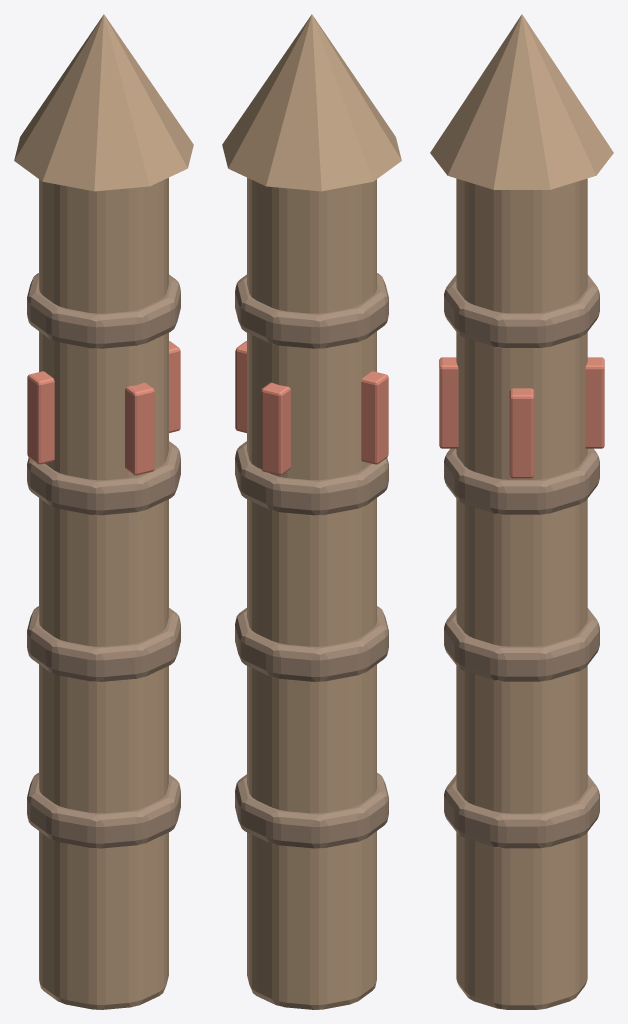
Rendered from vg_carved_post.glb.
The picture shows the model from 3 angles, left to right: view 1: azimuth 30°, elevation 25°; view 2: azimuth 150°, elevation 25°; view 3: azimuth 270°, elevation 25°; orthographic projection.
Visible parts, largest first — view 1: vg_carved_post; view 2: vg_carved_post; view 3: vg_carved_post.
Part boxes in pixels (bbox=[...]): vg_carved_post: bbox=[14, 14, 193, 1009]; vg_carved_post: bbox=[222, 14, 401, 1009]; vg_carved_post: bbox=[430, 14, 613, 1009].
Bounding box in the file's own units: 0.5706 × 3.5 × 0.6.
